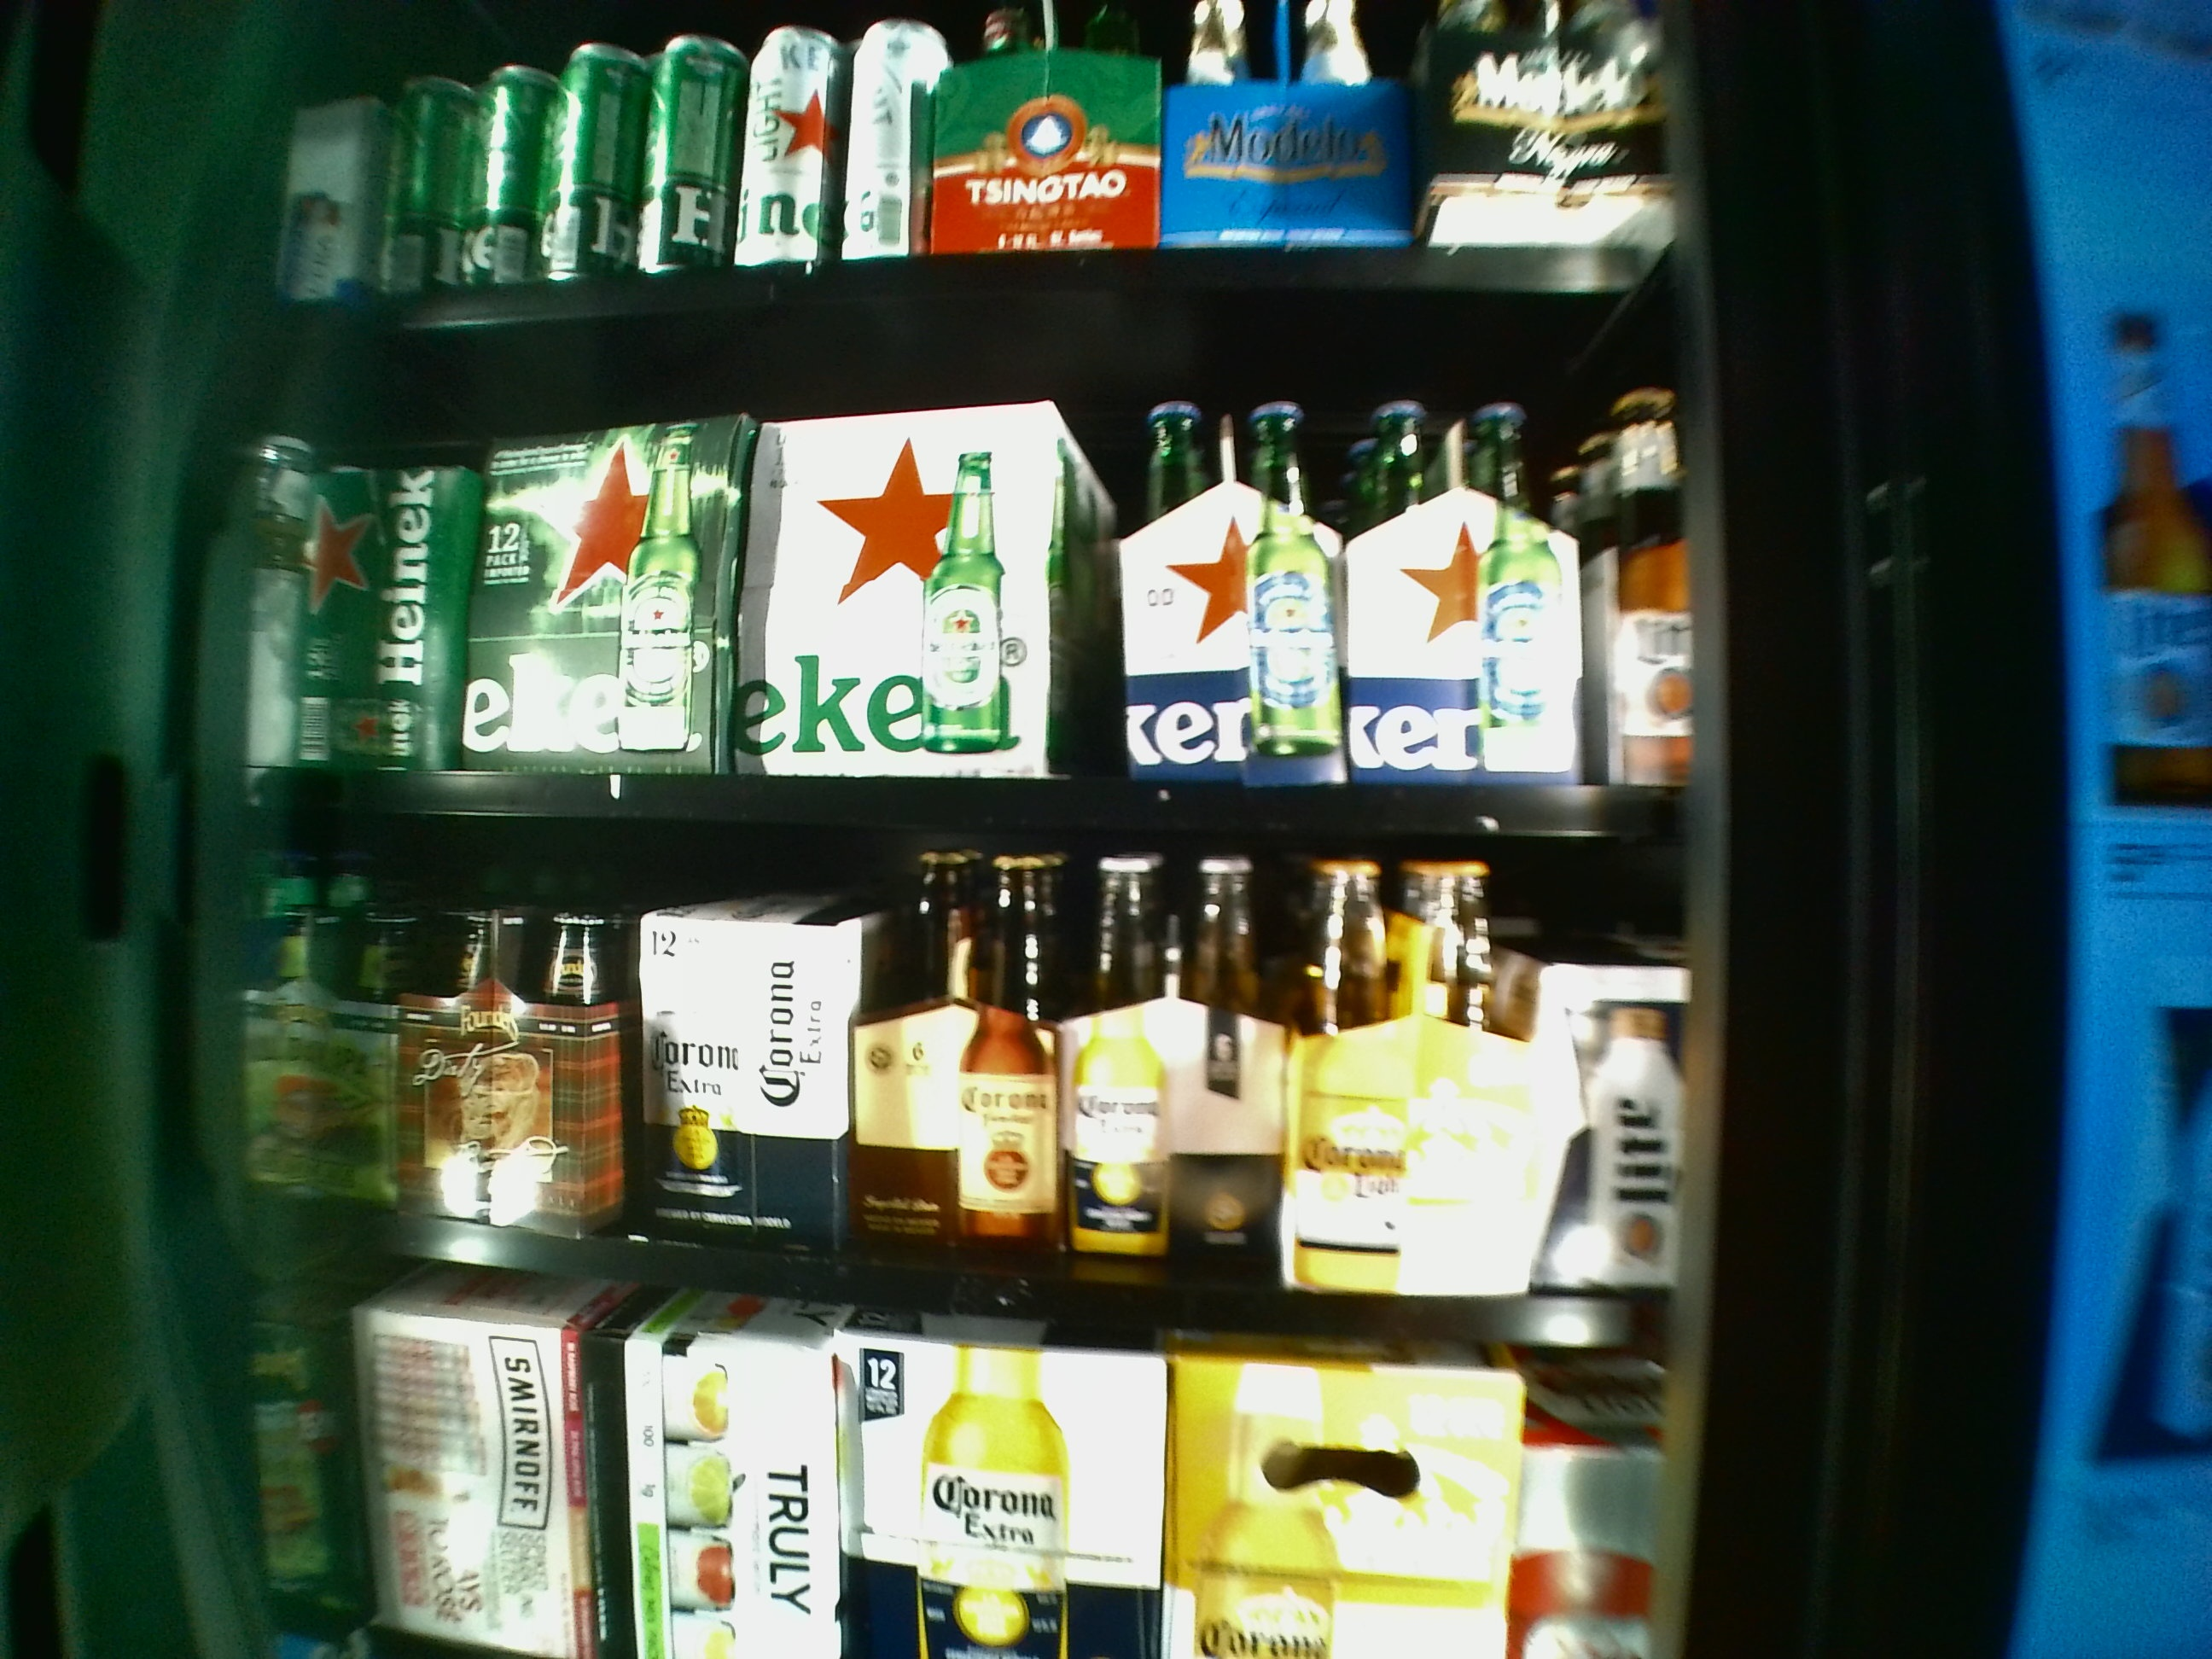shelf: (273, 296, 1679, 847), (265, 864, 1689, 1345)
